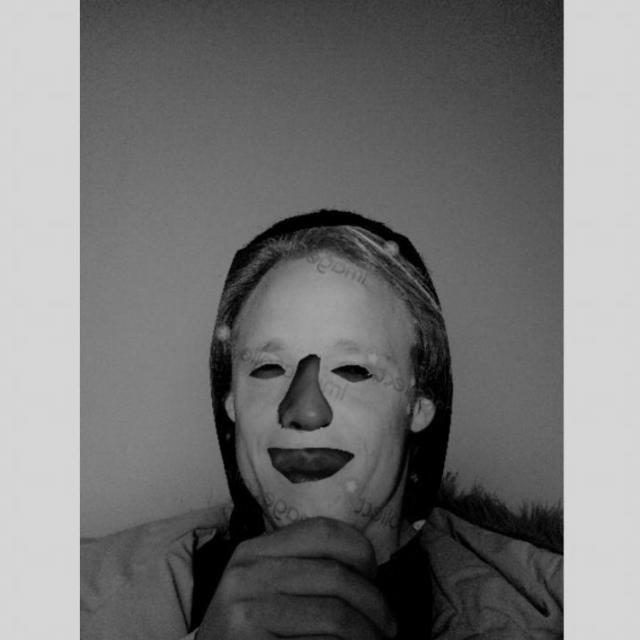fake: (208, 226, 458, 570)
